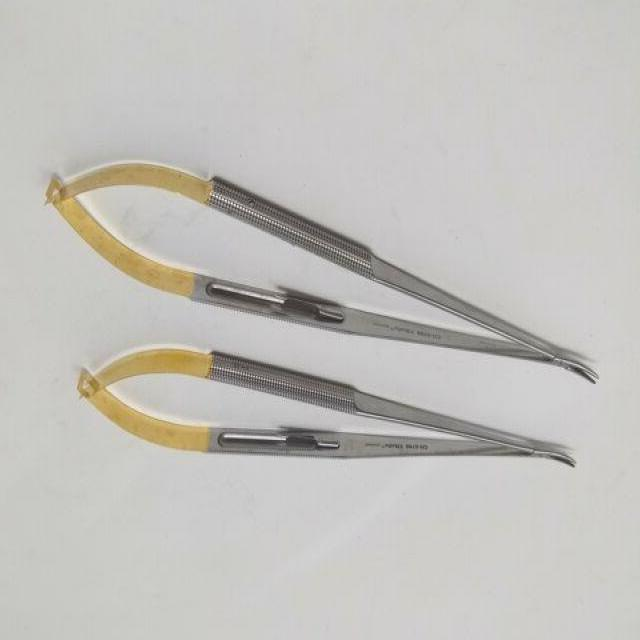Castroviejo: (41, 157, 602, 391), (76, 341, 578, 476)
